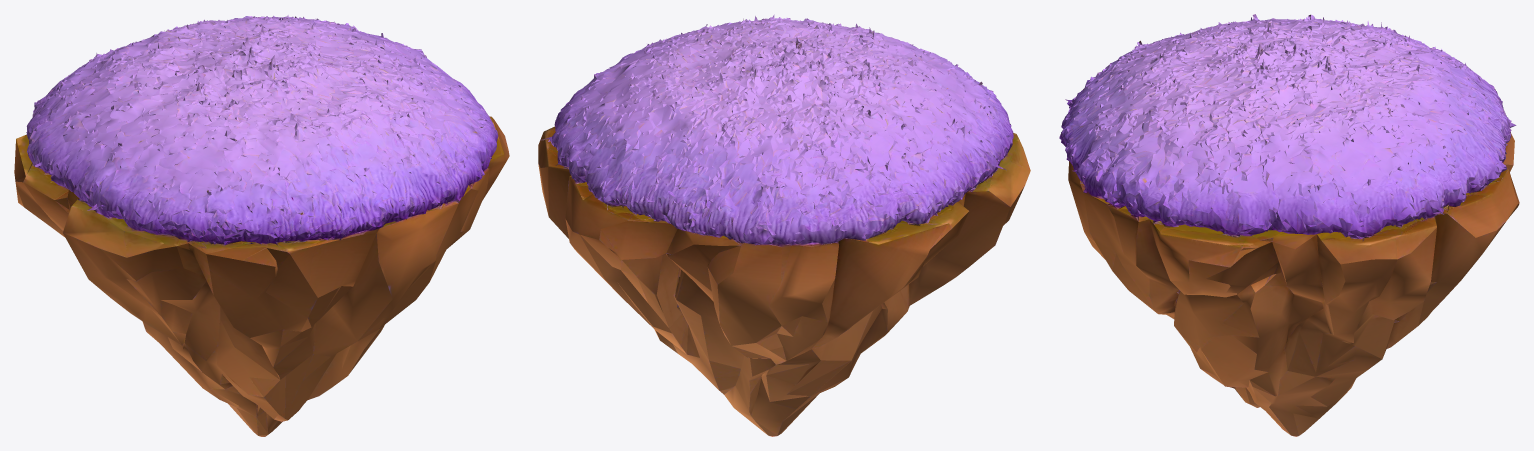
File: island.glb
3 renders of one model, left to right at view 1: azimuth 30°, elevation 25°; view 2: azimuth 150°, elevation 25°; view 3: azimuth 270°, elevation 25°, orthographic.
Size of the model in its own units: 1.9 by 1.67 by 1.78.
1 material, 1 textured.
